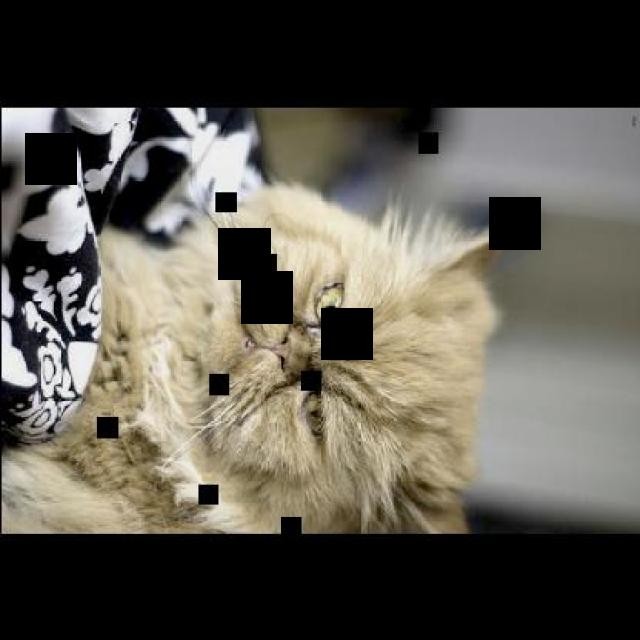unauthorized: (0, 175, 508, 534)
